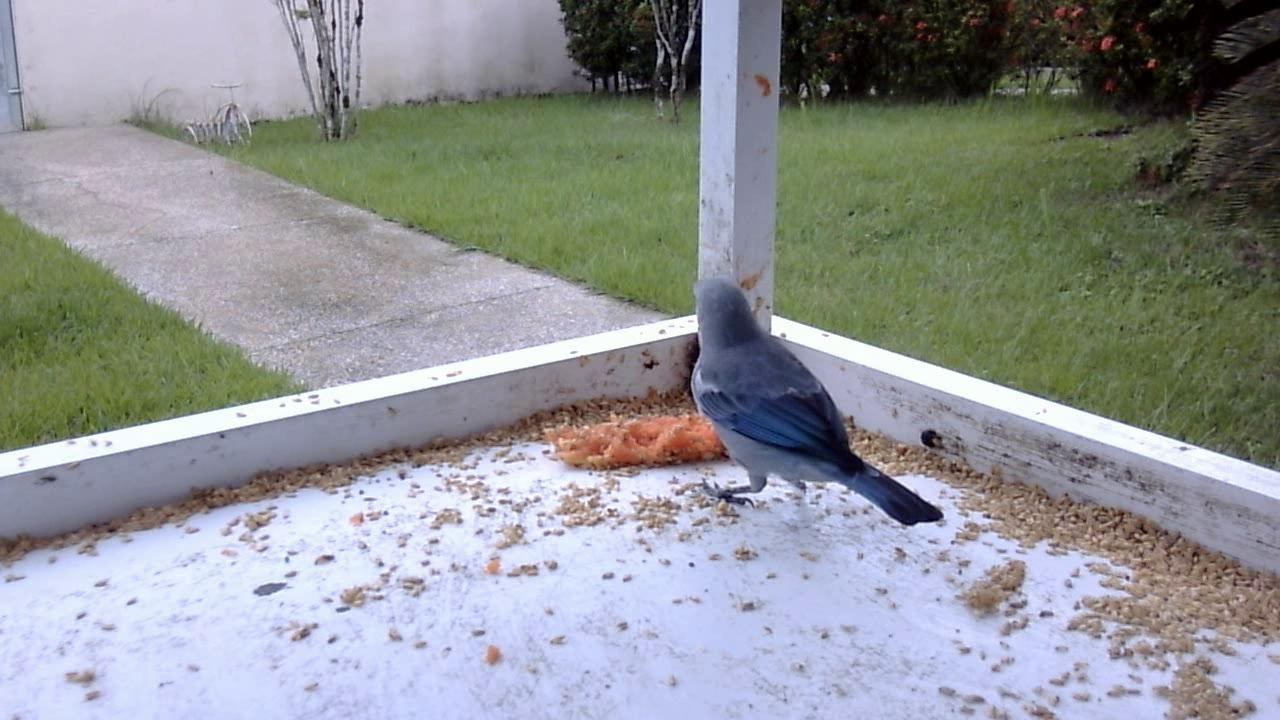sanhaco_da_amazonia: (666, 274, 952, 534)
